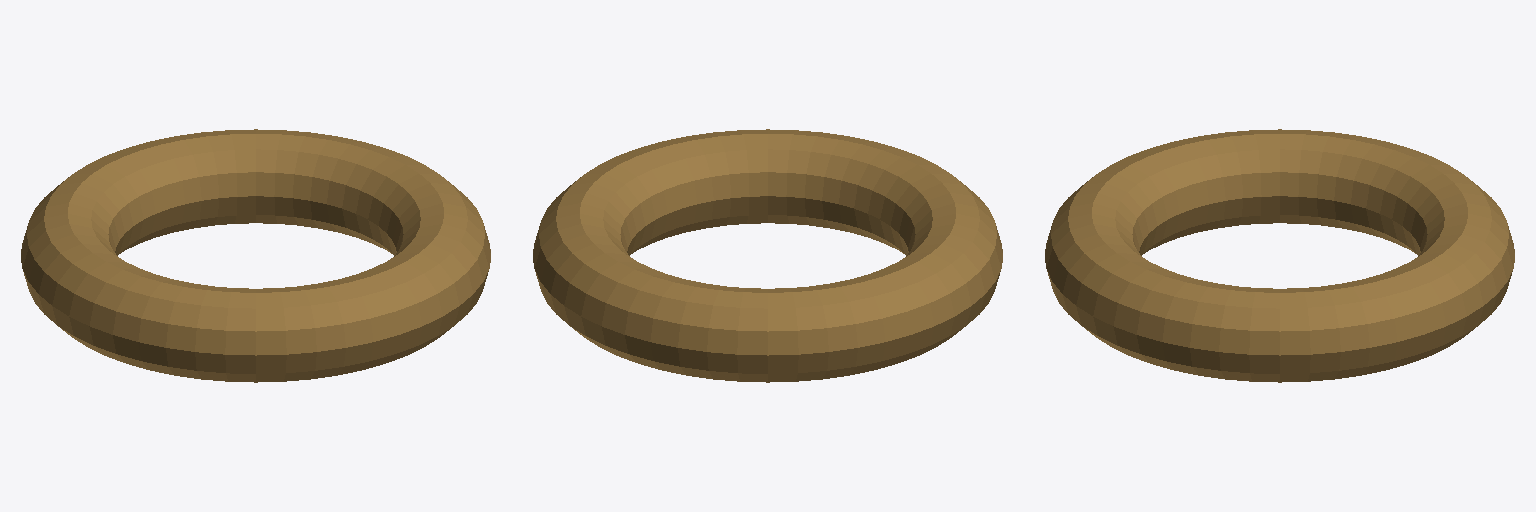
File: anell.obj
3 views of the same model, side by side, from view 1: azimuth 30°, elevation 25°; view 2: azimuth 150°, elevation 25°; view 3: azimuth 270°, elevation 25° (orthographic).
Parts seen in each view (by area): view 1: Torus; view 2: Torus; view 3: Torus.
Boxes of the visible parts, x1=… form: Torus: x1=21, y1=129, x2=490, y2=382; Torus: x1=533, y1=129, x2=1002, y2=382; Torus: x1=1045, y1=129, x2=1514, y2=382.
Size of the model in its own units: 2.5 by 0.5 by 2.5.